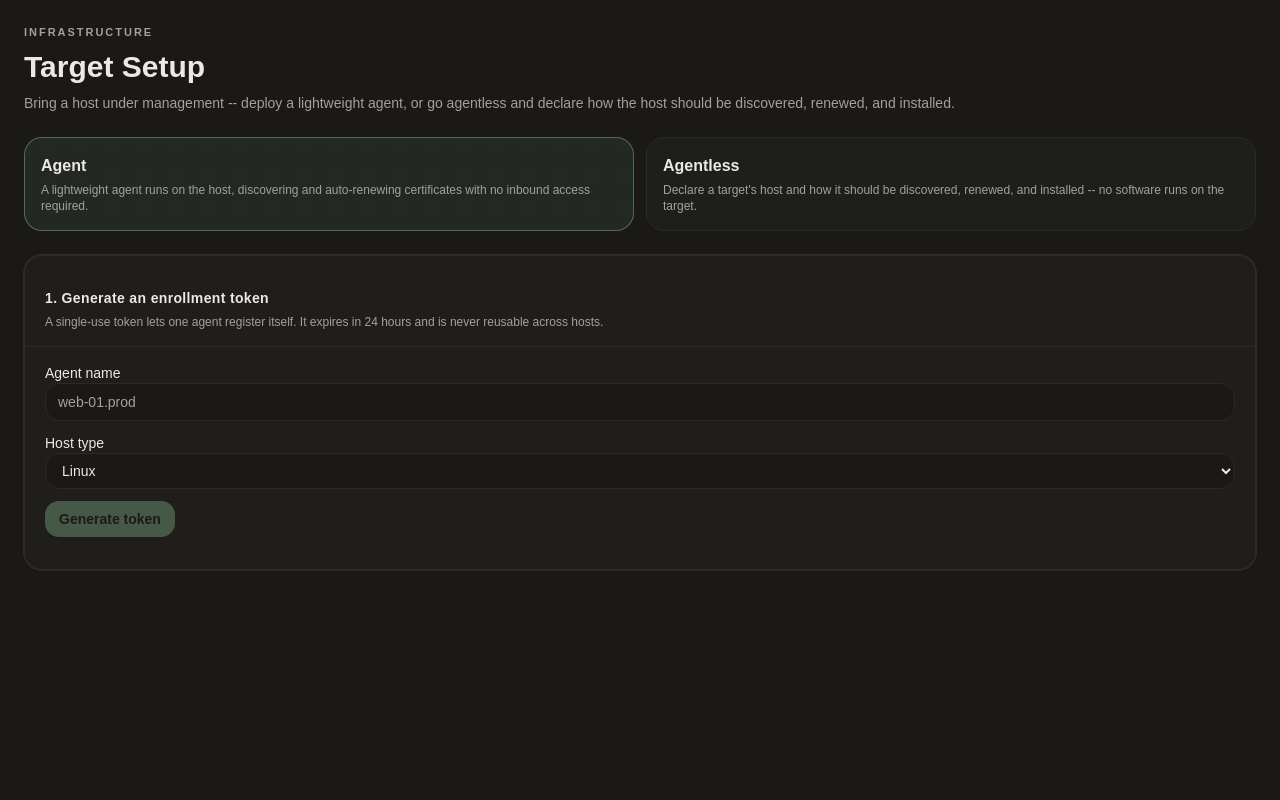
Test: target setup — OS awareness › asks which operating system the host runs
Click the radio button labelled "Agentless". click: [951, 184]
box: [646,136,1256,230]
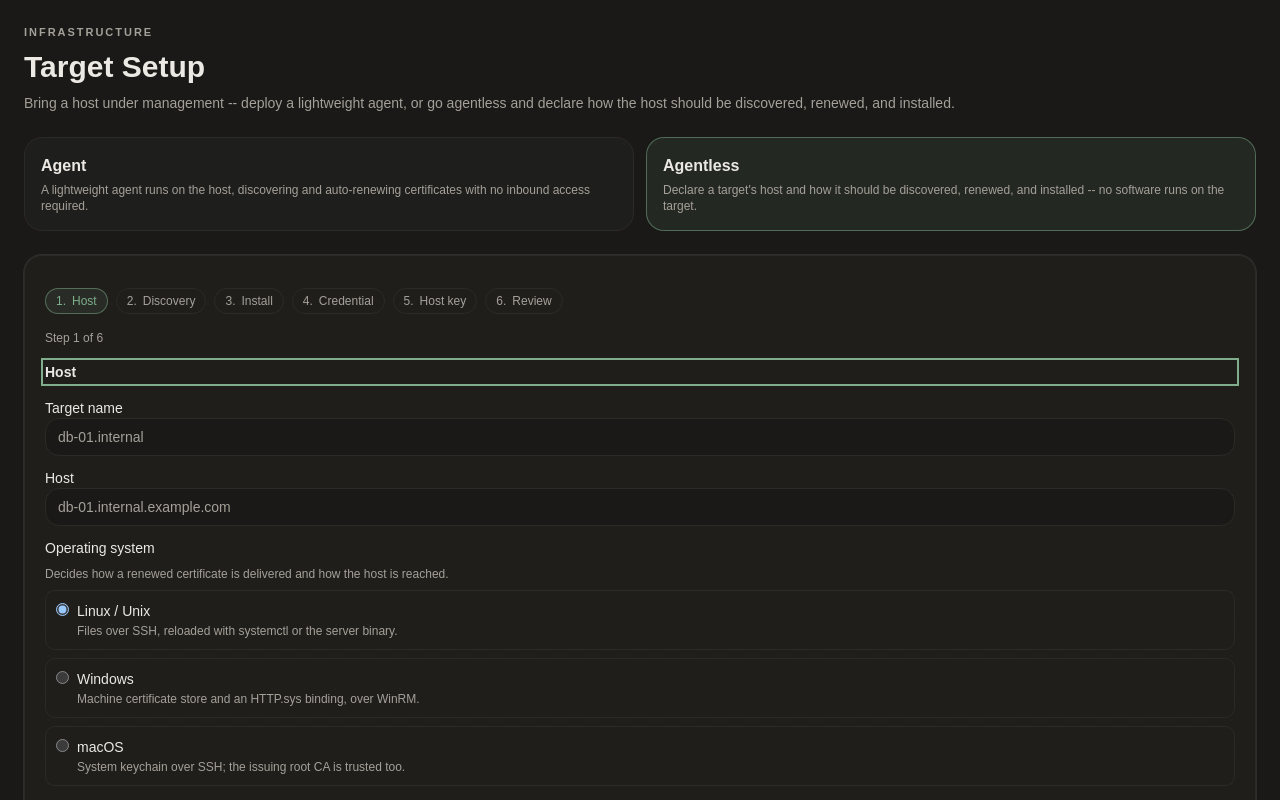
Expected: the radio button labelled "Linux" is shown, [56,602,69,616]
Expected: the radio button labelled "Windows" is shown, [56,670,69,684]
